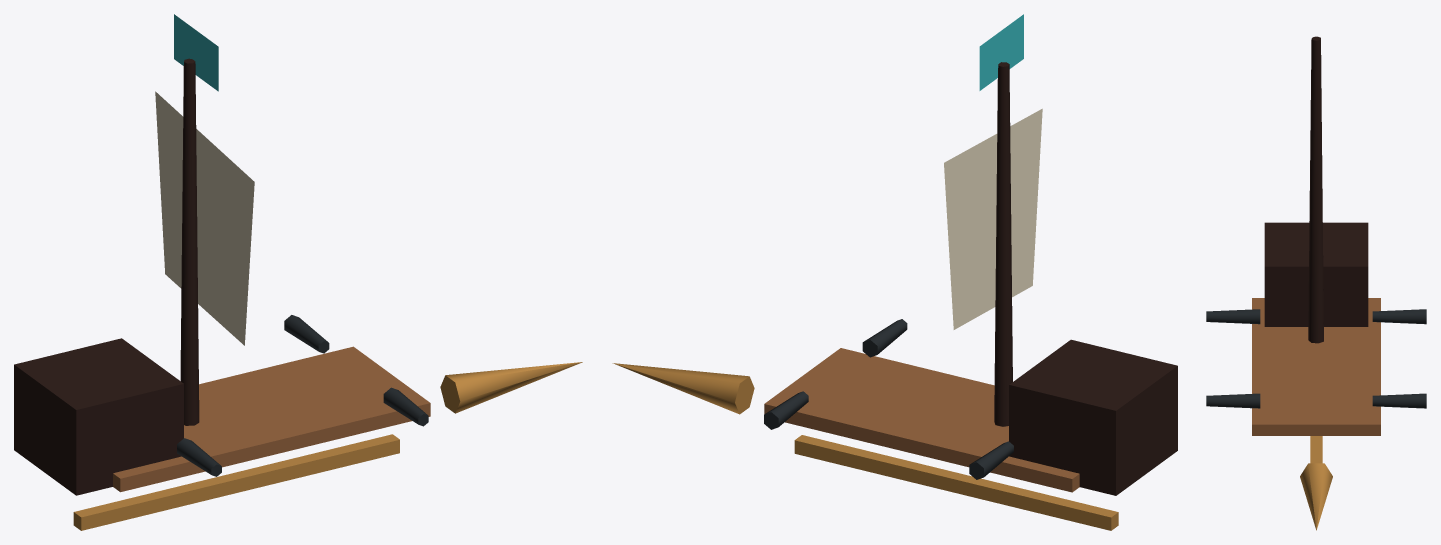
Rendered from sovereign-frigate-lod2.glb.
3 renders of one model, left to right at view 1: azimuth 30°, elevation 25°; view 2: azimuth 150°, elevation 25°; view 3: azimuth 270°, elevation 25°, orthographic. The views are drawn at different scales.
Visible parts, largest first — view 1: stern, deck, sail_1, keel, mast_1, bow, flag, cannon_port_2, cannon_starboard_2, cannon_port_1; view 2: stern, deck, sail_1, keel, mast_1, bow, flag, cannon_port_2, cannon_starboard_1, cannon_starboard_2; view 3: deck, stern, mast_1, bow, cannon_port_2, cannon_starboard_2, cannon_starboard_1, cannon_port_1, keel.
Boxes of the visible parts, left/top/right/bottom form: stern: left=14, top=338, right=183, bottom=495; deck: left=113, top=346, right=430, bottom=492; sail_1: left=155, top=91, right=254, bottom=345; keel: left=73, top=434, right=399, bottom=530; mast_1: left=180, top=58, right=199, bottom=425; bow: left=440, top=362, right=582, bottom=413; flag: left=174, top=14, right=218, bottom=91; cannon_port_2: left=383, top=387, right=428, bottom=426; cannon_starboard_2: left=284, top=315, right=329, bottom=353; cannon_port_1: left=177, top=438, right=221, bottom=476; stern: left=1009, top=339, right=1177, bottom=495; deck: left=764, top=348, right=1079, bottom=492; sail_1: left=944, top=108, right=1042, bottom=329; keel: left=794, top=435, right=1118, bottom=530; mast_1: left=994, top=62, right=1012, bottom=426; bow: left=612, top=363, right=754, bottom=414; flag: left=979, top=14, right=1023, bottom=90; cannon_port_2: left=862, top=319, right=907, bottom=357; cannon_starboard_1: left=969, top=441, right=1013, bottom=479; cannon_starboard_2: left=764, top=391, right=808, bottom=429; deck: left=1252, top=298, right=1380, bottom=435; stern: left=1264, top=222, right=1368, bottom=326; mast_1: left=1308, top=36, right=1323, bottom=343; bow: left=1300, top=463, right=1332, bottom=530; cannon_port_2: left=1206, top=393, right=1260, bottom=408; cannon_starboard_2: left=1372, top=393, right=1426, bottom=408; cannon_starboard_1: left=1372, top=309, right=1426, bottom=324; cannon_port_1: left=1206, top=309, right=1260, bottom=324; keel: left=1310, top=436, right=1322, bottom=463.
Bounding box in the file's own units: 125 × 104 × 53.
